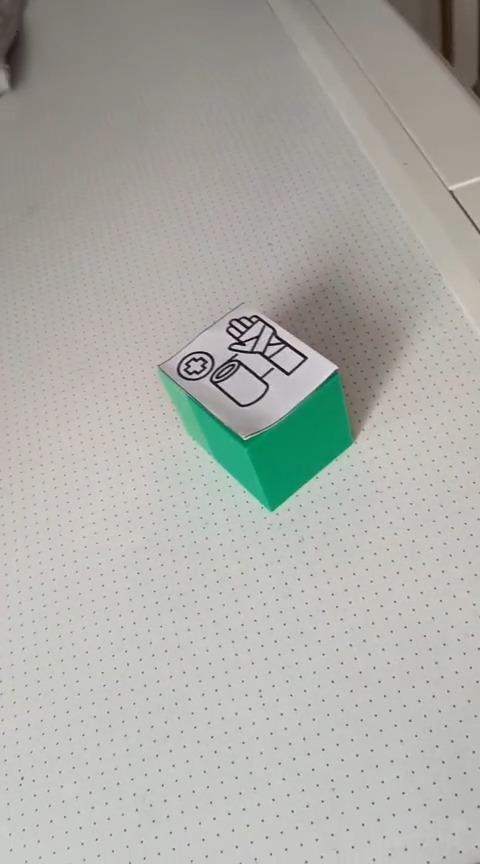Bandages: (157, 299, 354, 511)
